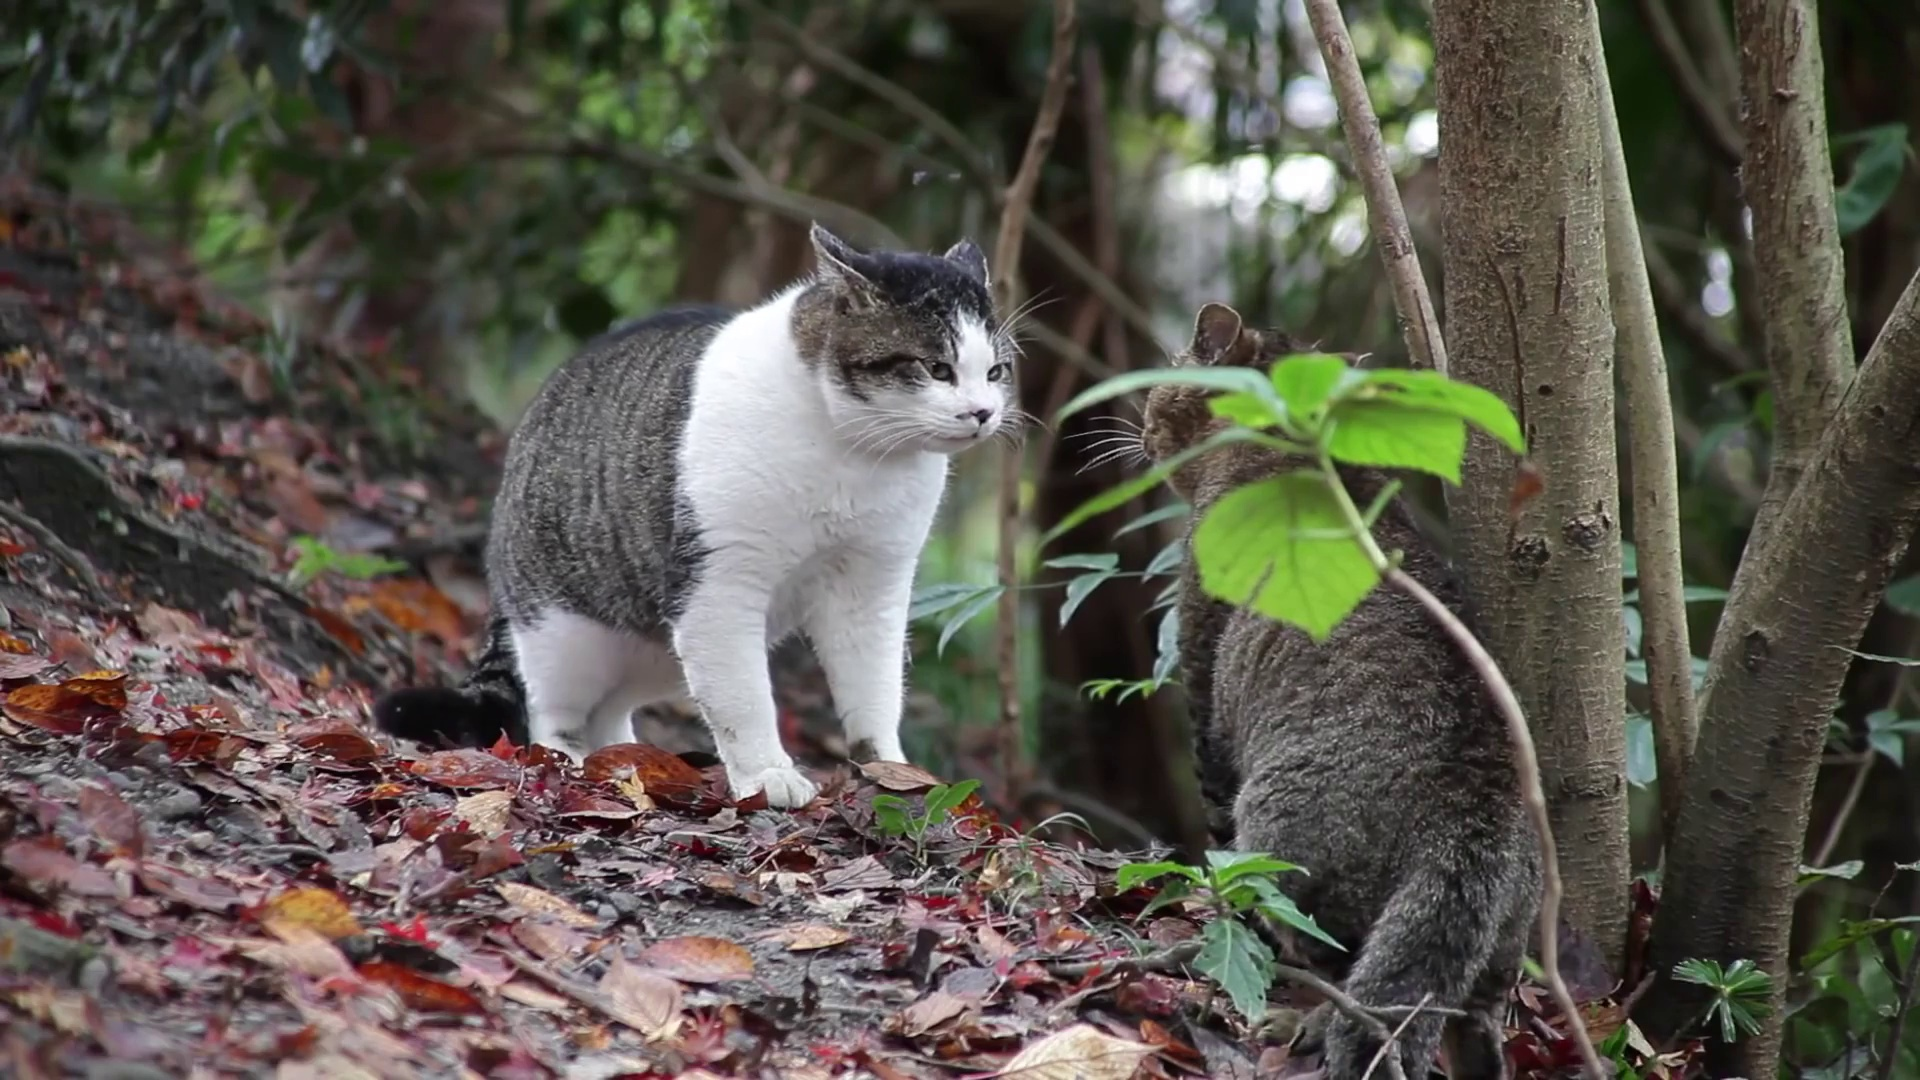black-white: (375, 220, 1010, 814)
pure black: (1135, 299, 1539, 1080)
